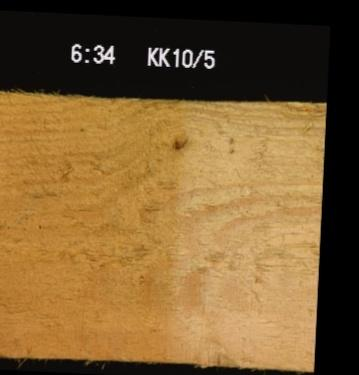split: (251, 249, 301, 281)
